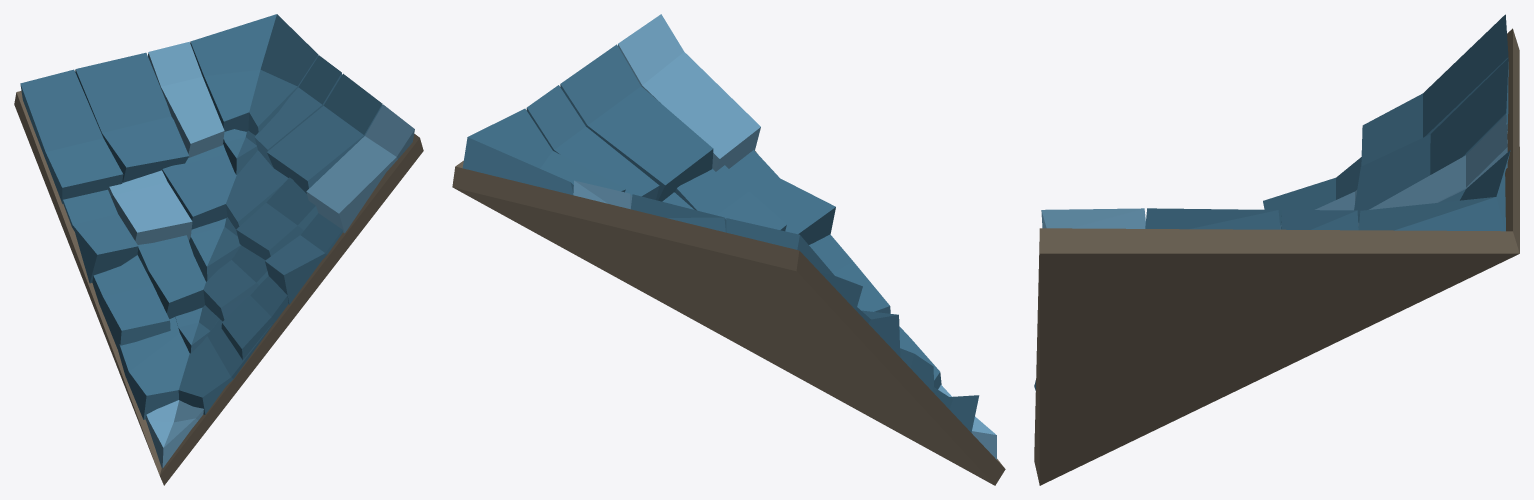
File: ROOF_inner_corner_1.fbx
3 views of the same model, side by side, from view 1: azimuth 30°, elevation 25°; view 2: azimuth 150°, elevation 25°; view 3: azimuth 270°, elevation 25° (orthographic). The views are drawn at different scales.
Parts seen in each view (by area): view 1: ROOF_inner_corner_1; view 2: ROOF_inner_corner_1; view 3: ROOF_inner_corner_1.
Part boxes in pixels (<box>): ROOF_inner_corner_1: <box>14,14,423,485</box>; ROOF_inner_corner_1: <box>452,14,1005,485</box>; ROOF_inner_corner_1: <box>1034,14,1519,485</box>.
Size of the model in its own units: 102 by 112 by 101.
